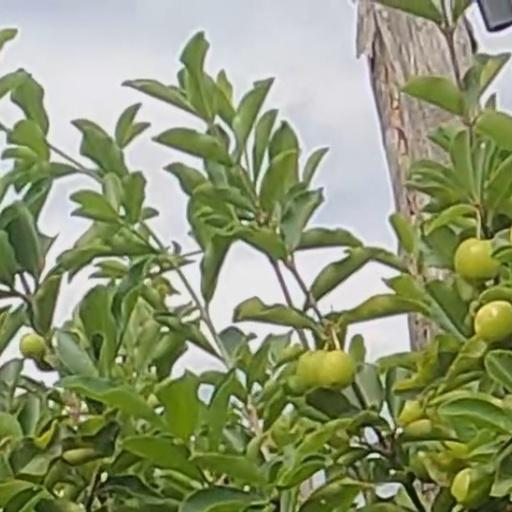acerola_verde: (459, 242, 498, 283), (478, 303, 510, 346), (322, 355, 354, 389), (299, 350, 321, 384), (20, 336, 46, 360)
